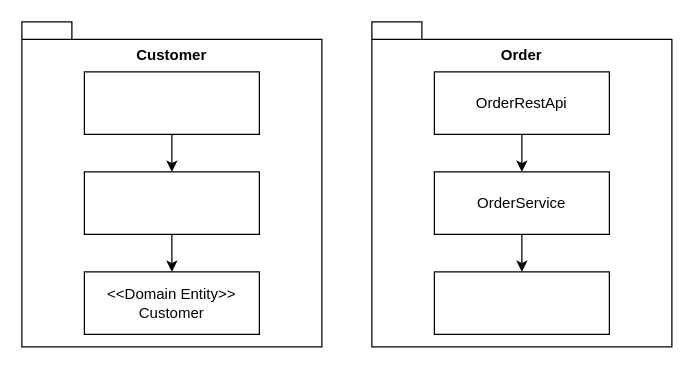
Some shapes in this 694 by 369 pixel diagram are drawn without their labels. Here are the shapes that lost their labels. From the top down, the box of each, then its label:
(83, 71, 259, 134): CustomerRestApi
(83, 171, 259, 234): CustomerService
(433, 271, 609, 334): <<Domain Entity>> Order
